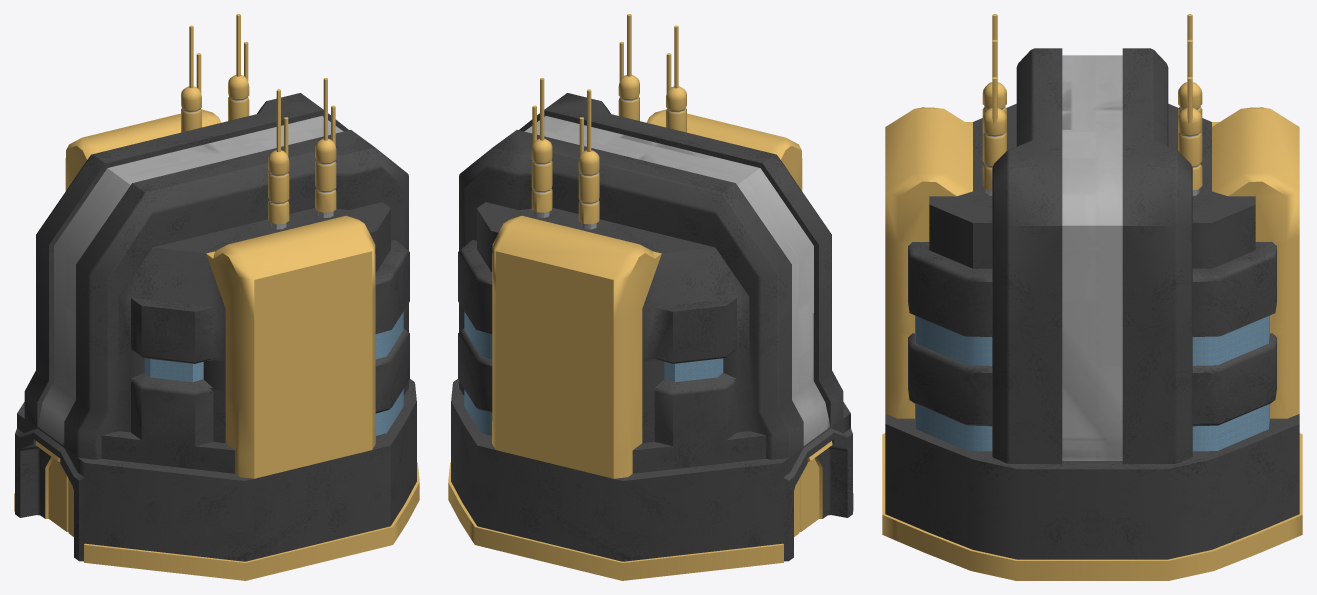
The model's file is NB_Extra_Building_1.fbx.
The picture shows the model from 3 angles, left to right: view 1: azimuth 30°, elevation 25°; view 2: azimuth 150°, elevation 25°; view 3: azimuth 270°, elevation 25°; orthographic projection. The views are drawn at different scales.
Parts seen in each view (by area): view 1: NB_Extra_Building_1; view 2: NB_Extra_Building_1; view 3: NB_Extra_Building_1.
Boxes of the visible parts, x1=… form: NB_Extra_Building_1: x1=14, y1=14, x2=419, y2=580; NB_Extra_Building_1: x1=448, y1=14, x2=853, y2=580; NB_Extra_Building_1: x1=882, y1=14, x2=1302, y2=580.
Bounding box in the file's own units: 358 × 440 × 345.
